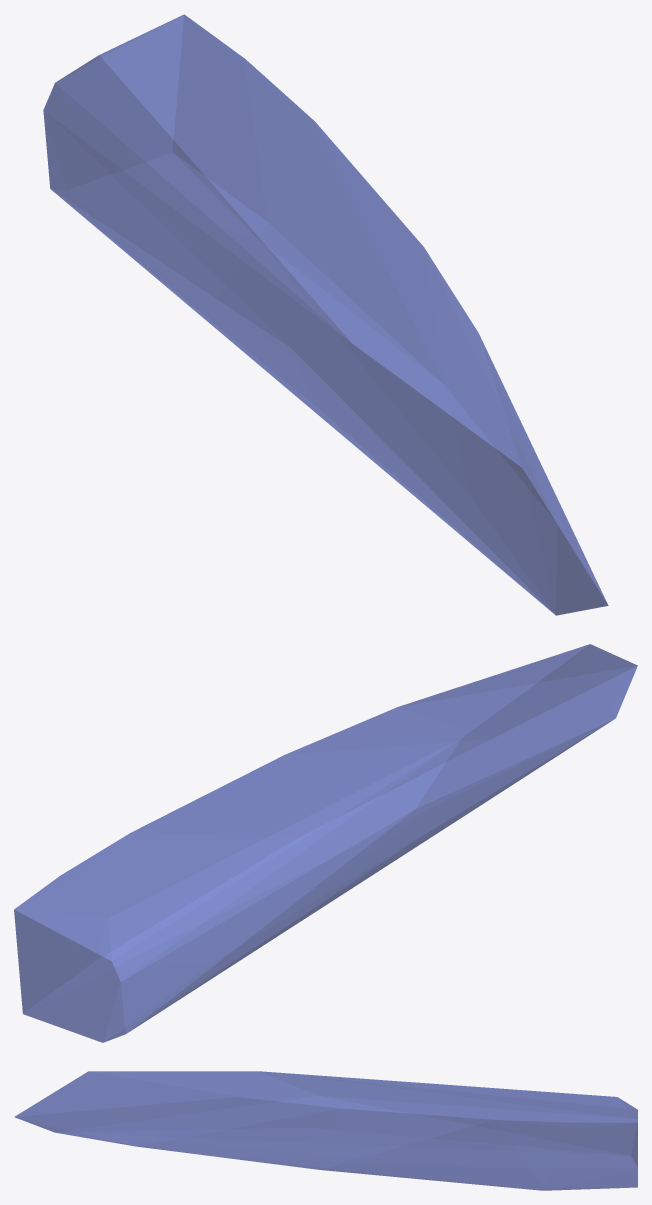
3 renders of one model, top to bottom at view 1: azimuth 30°, elevation 25°; view 2: azimuth 150°, elevation 25°; view 3: azimuth 270°, elevation 25°, orthographic. The views are drawn at different scales.
Visible parts, largest first — view 1: Shape_IndexedFaceSet.049_Shape_IndexedFaceSet.13121; view 2: Shape_IndexedFaceSet.049_Shape_IndexedFaceSet.13121; view 3: Shape_IndexedFaceSet.049_Shape_IndexedFaceSet.13121.
Part boxes in pixels (x1,y1,x2,y2): Shape_IndexedFaceSet.049_Shape_IndexedFaceSet.13121: [43, 14, 608, 615]; Shape_IndexedFaceSet.049_Shape_IndexedFaceSet.13121: [14, 644, 637, 1042]; Shape_IndexedFaceSet.049_Shape_IndexedFaceSet.13121: [14, 1071, 637, 1190].
Size of the model in its own units: 0.0408 by 0.0272 by 0.2087.
